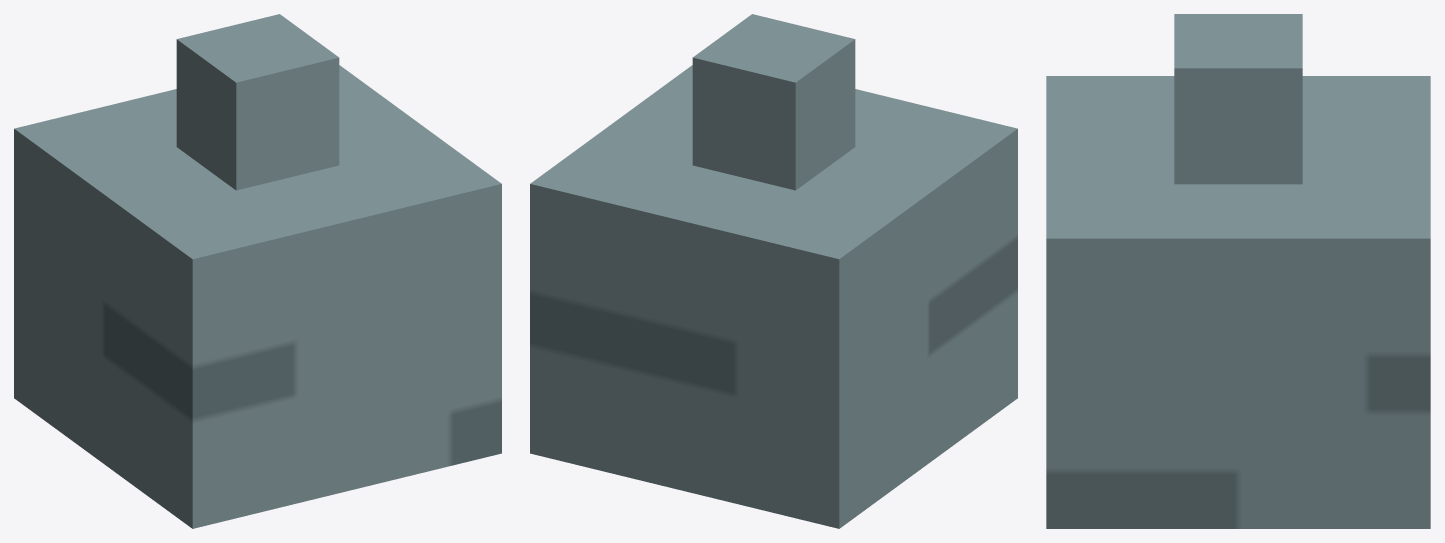
File: Hip082.fbx
3 renders of one model, left to right at view 1: azimuth 30°, elevation 25°; view 2: azimuth 150°, elevation 25°; view 3: azimuth 270°, elevation 25°, orthographic. The views are drawn at different scales.
Parts seen in each view (by area): view 1: Hip082; view 2: Hip082; view 3: Hip082.
Part boxes in pixels (left/top/right/bottom): Hip082: left=14, top=14, right=501, bottom=528; Hip082: left=530, top=14, right=1017, bottom=528; Hip082: left=1046, top=14, right=1430, bottom=528.
Bounding box in the file's own units: 6 × 7 × 6.
